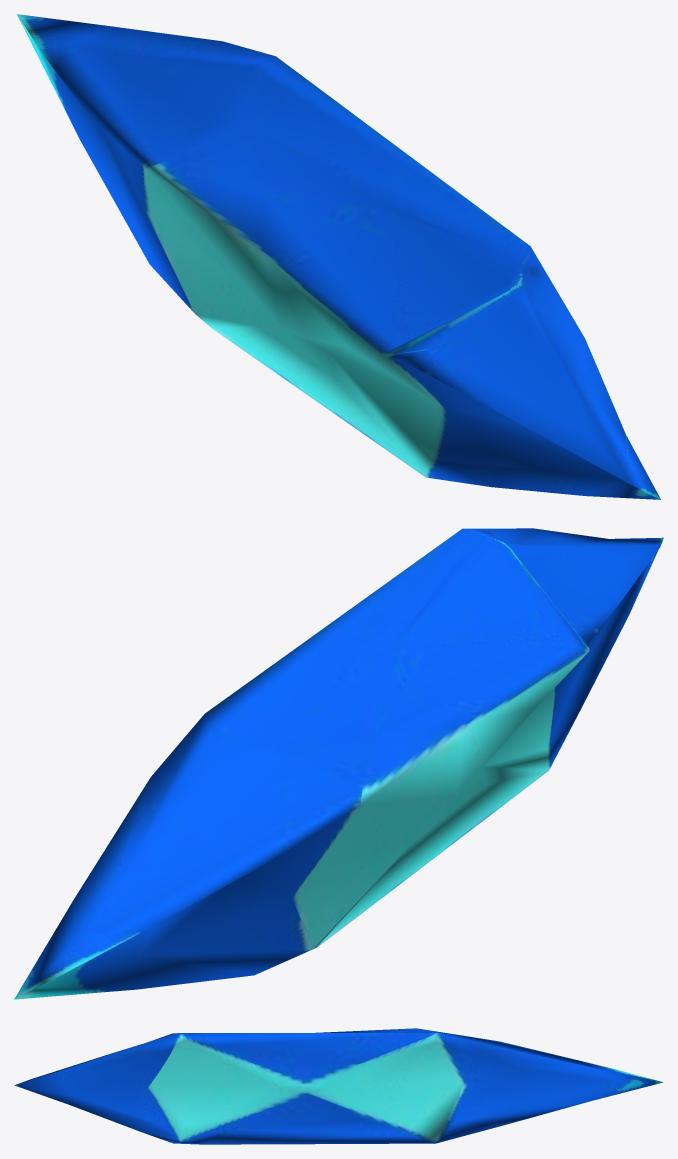
File: siege_bolt.glb
The picture shows the model from 3 angles, top to bottom: view 1: azimuth 30°, elevation 25°; view 2: azimuth 150°, elevation 25°; view 3: azimuth 270°, elevation 25°; orthographic projection. The views are drawn at different scales.
Visible parts, largest first — view 1: tripo_node_c31315ae-53ff-4071-8ade-df1321831ddb; view 2: tripo_node_c31315ae-53ff-4071-8ade-df1321831ddb; view 3: tripo_node_c31315ae-53ff-4071-8ade-df1321831ddb.
Boxes of the visible parts, x1,y1,x2,y2 form: tripo_node_c31315ae-53ff-4071-8ade-df1321831ddb: (17,14,660,499); tripo_node_c31315ae-53ff-4071-8ade-df1321831ddb: (14,528,663,999); tripo_node_c31315ae-53ff-4071-8ade-df1321831ddb: (14,1028,663,1144).
Bounding box in the file's own units: 0.1848 × 0.198 × 1.
Materials: 1 (1 with a texture image).
